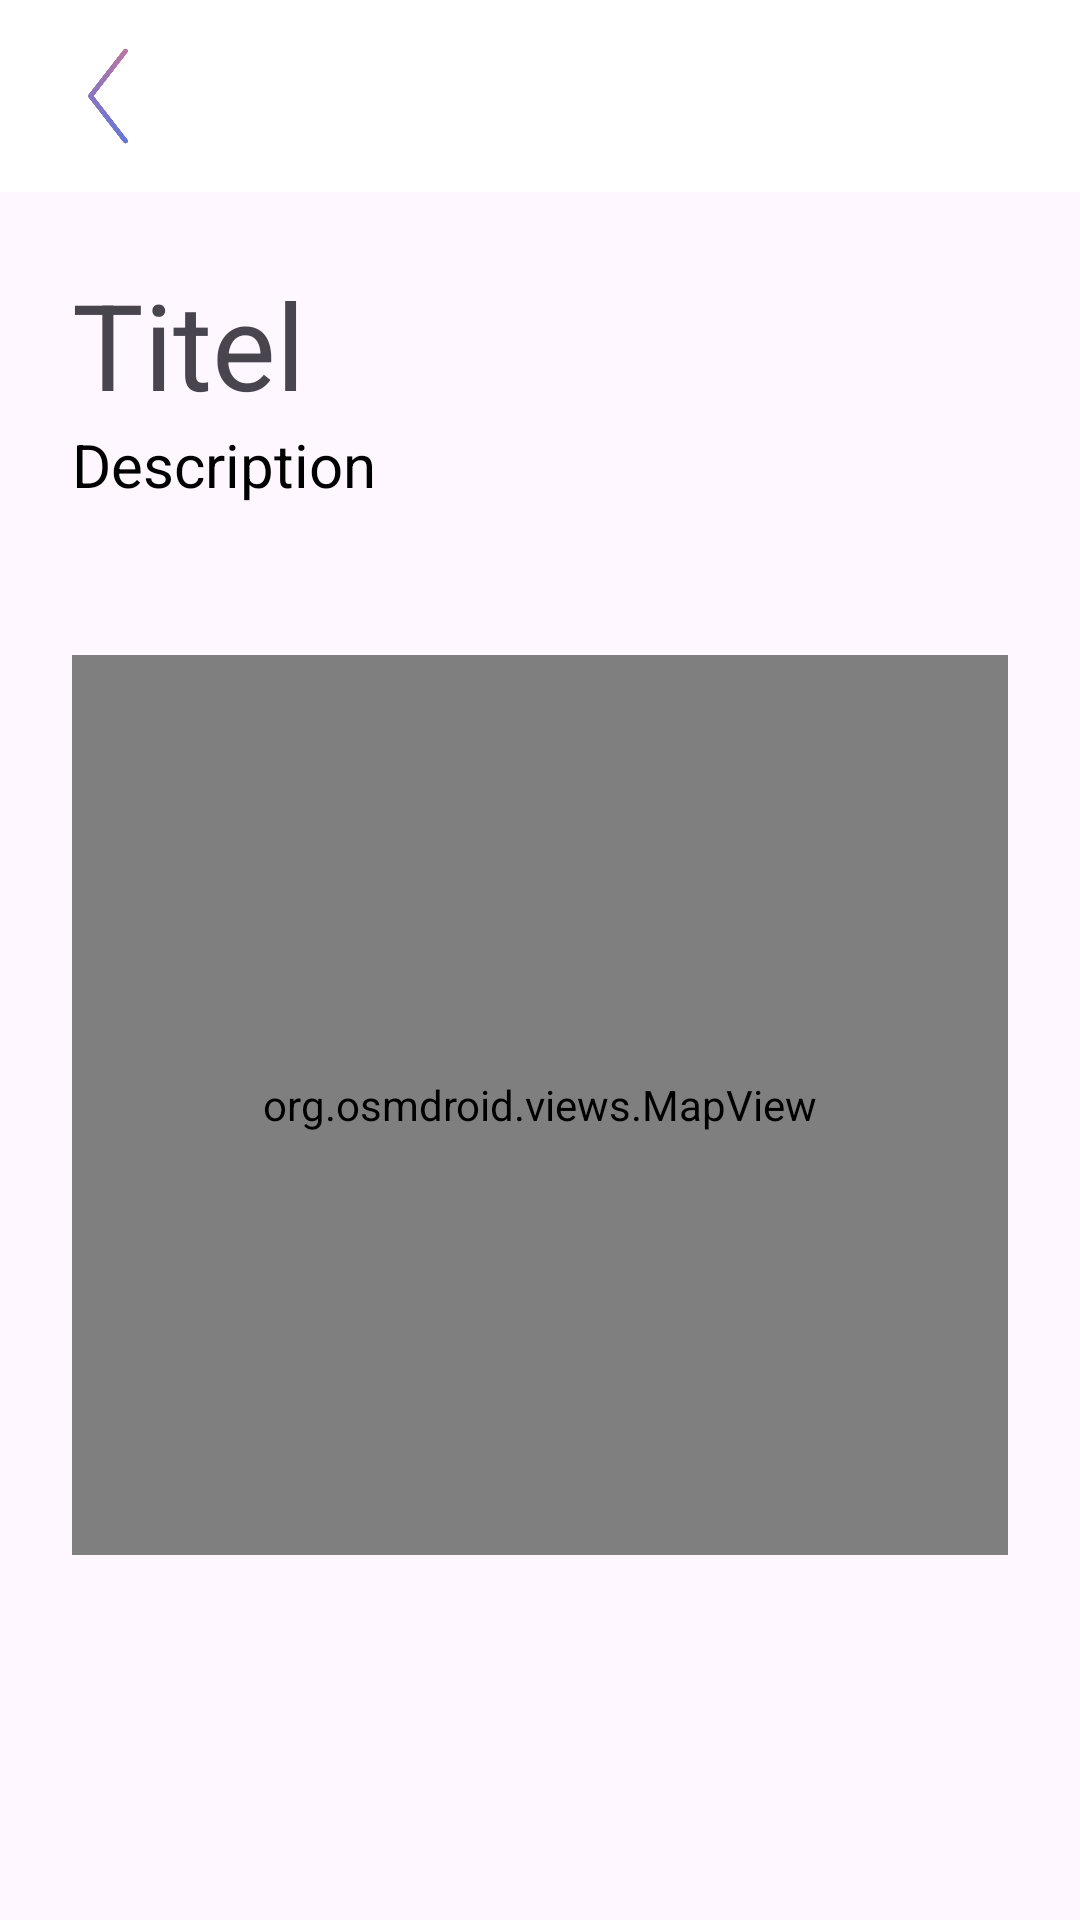

Named icons in this screenshot (1080 x 1920) and their bounding boxes, bbox(x1, y1, x2, y2):
back: bbox(88, 48, 128, 144)
